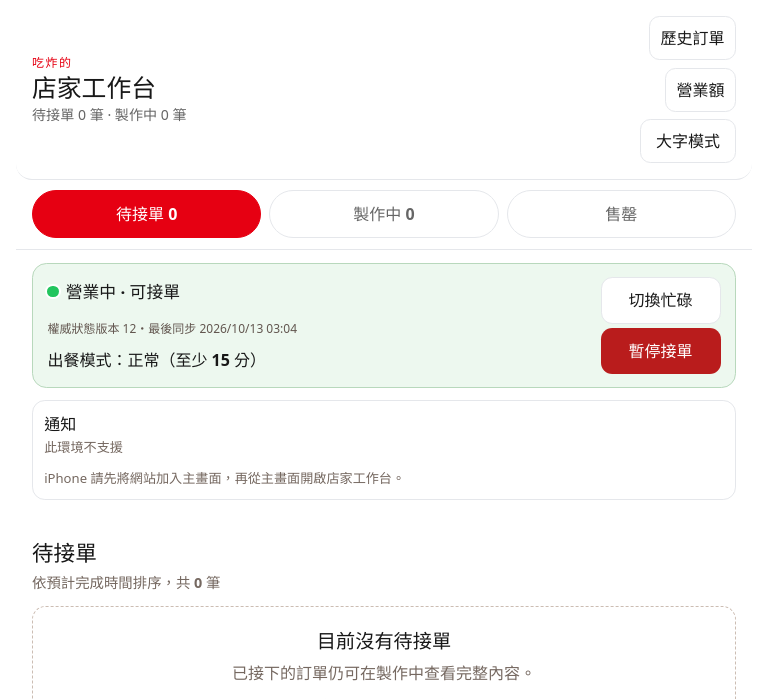
Test: Merchant Store safety DOM › does not trust an existing Pause operation when the Store is currently accepting
Expected: the element with test id "store-control" is shown, [32,263,736,388]
What coordinates should you click on to do the following:
click the button "暫停接單"
I would click on:
 (661, 351)
Its box is [601,328,721,374].
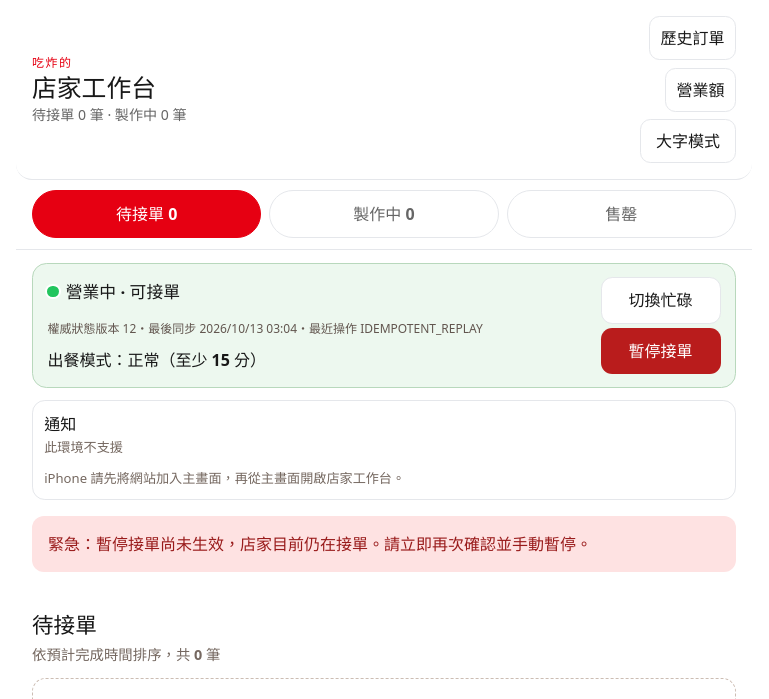
Now the message shows "緊急", box [48,533,592,555]
